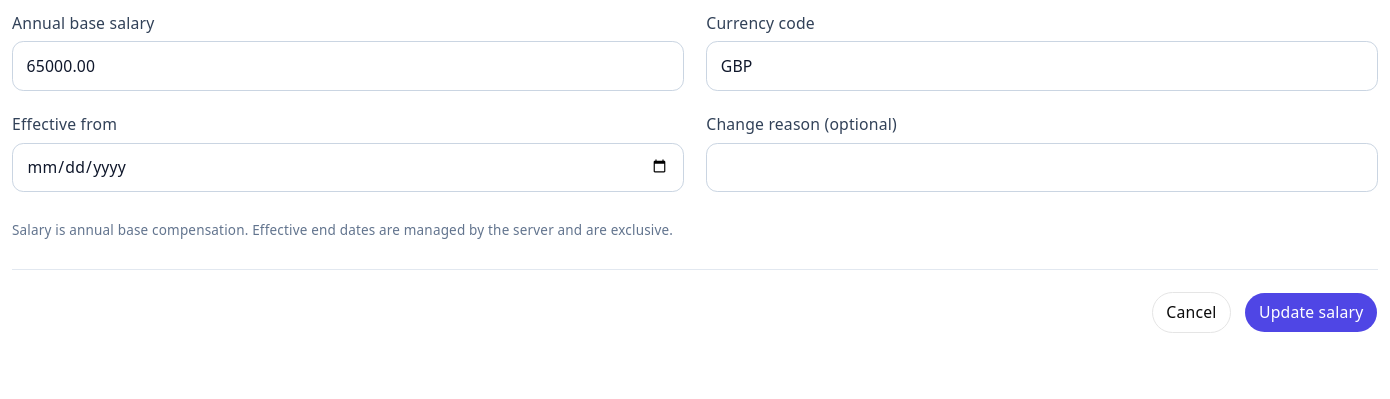
Scenario: employee salary form › rejects zero salary and future effective dates before sending a request
Replace the text in the field labelled "Annual base salary" with "0" at (348,66), box [12,41,684,91]
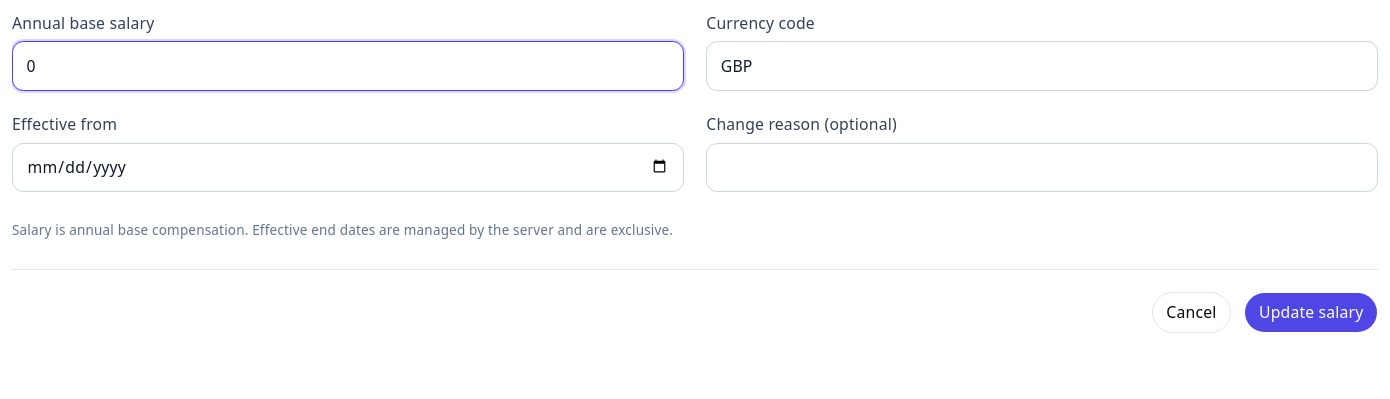
Type "9999-12-31" into the date field labelled "Effective from".
click(348, 167); type("9999-12-31")  # box [12,142,684,192]
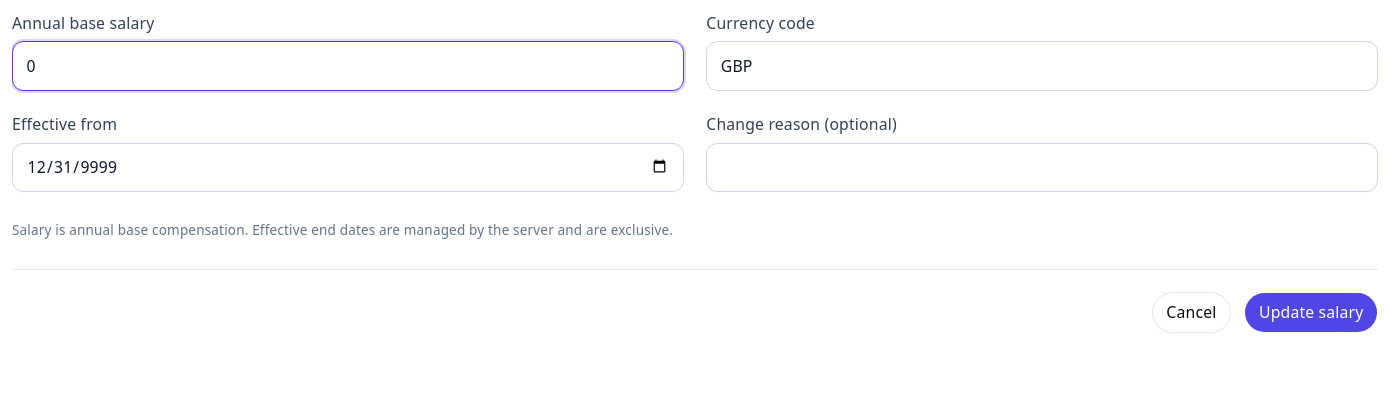
Click the button "Update salary".
click(1311, 312)  # box [1244,292,1378,332]
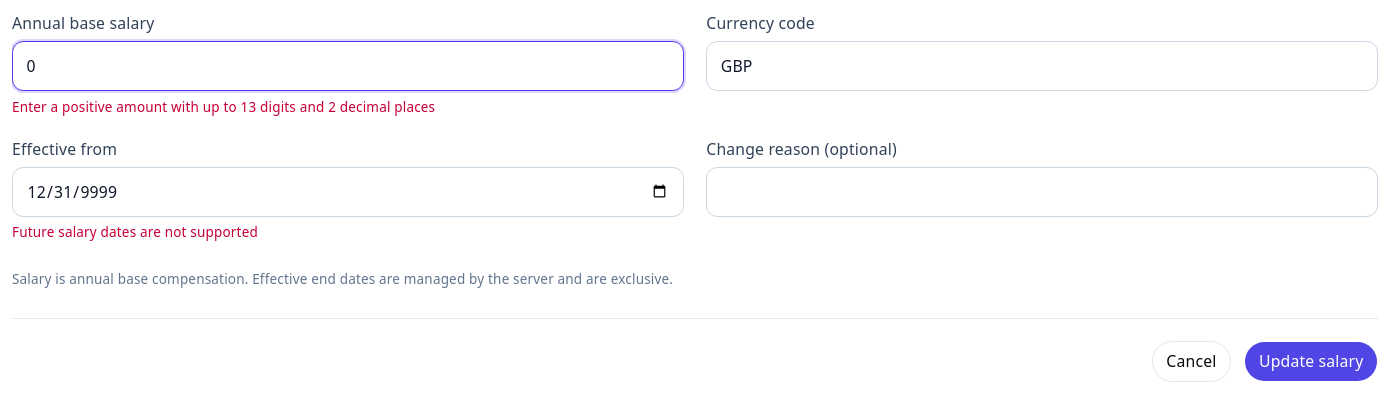
Expected: the text "Enter a positive amount with up to 13 digits and 2 decimal places" is shown, [12,98,435,116]
Expected: the text "Future salary dates are not supported" is shown, [12,224,258,242]
